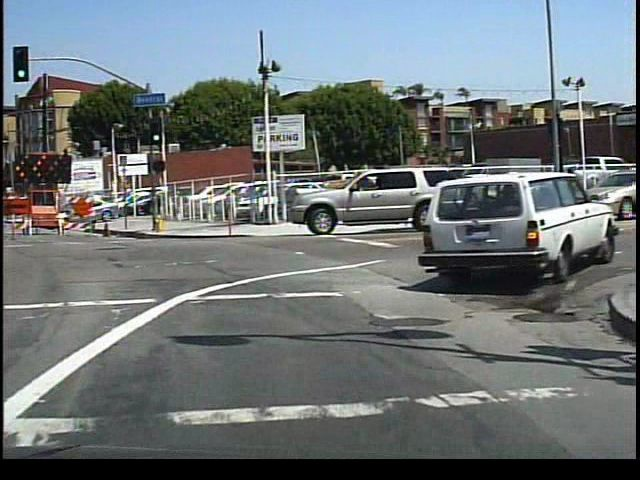person: (560, 161, 579, 204)
